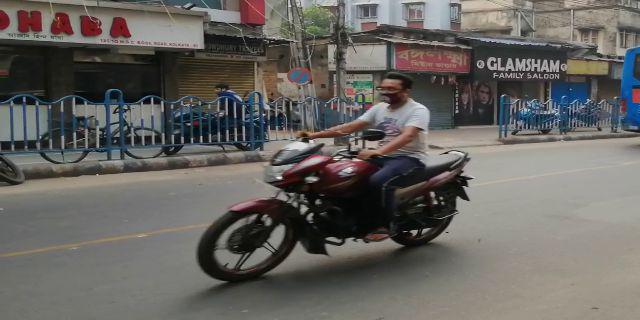Motorbike: (194, 72, 475, 283)
